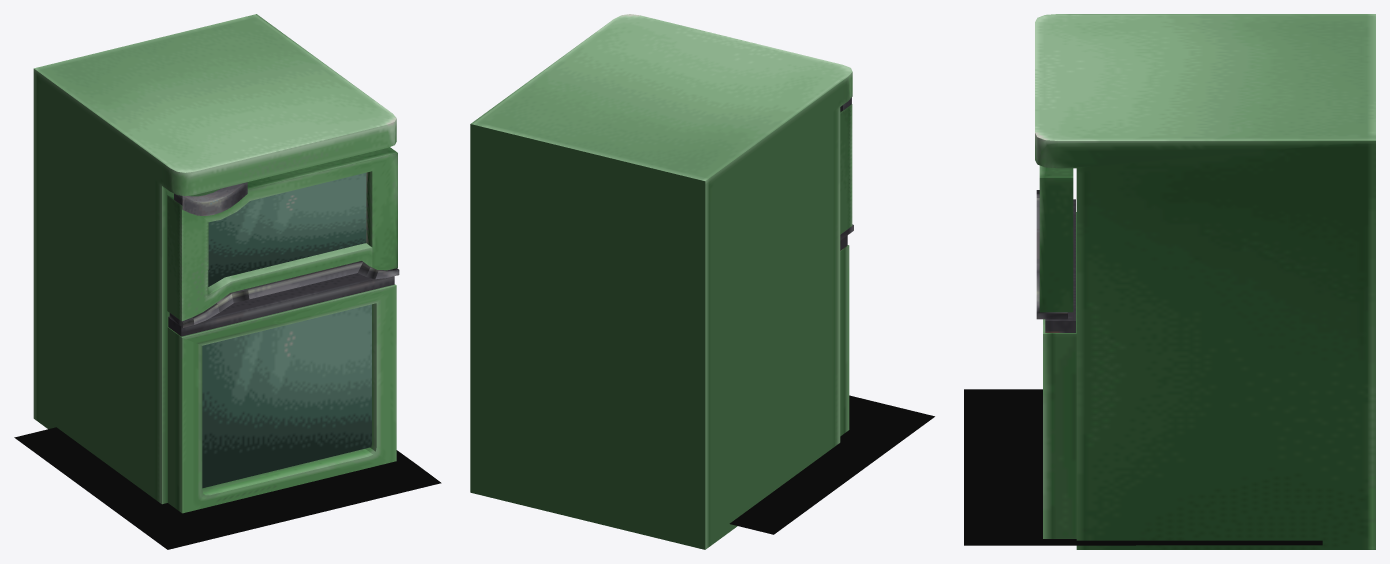
The model's file is K1_oldrefrigerator.FBX.
The picture shows the model from 3 angles, left to right: view 1: azimuth 30°, elevation 25°; view 2: azimuth 150°, elevation 25°; view 3: azimuth 270°, elevation 25°; orthographic projection. The views are drawn at different scales.
Visible parts, largest first — view 1: oldrefrigerator_000, oldornament_03, oldornament_02, oldornament_yy; view 2: oldrefrigerator_000, oldornament_yy, oldornament_03, oldornament_02; view 3: oldrefrigerator_000, oldornament_yy, oldornament_03, oldornament_02.
Part boxes in pixels (x1,y1,x2,y2): oldrefrigerator_000: (33,14,396,504); oldornament_03: (167,273,396,513); oldornament_02: (167,147,399,327); oldornament_yy: (14,427,441,549); oldrefrigerator_000: (470,14,852,549); oldornament_yy: (729,395,934,534); oldornament_03: (840,235,849,436); oldornament_02: (840,97,853,240); oldrefrigerator_000: (1035,14,1375,549); oldornament_yy: (964,389,1322,545); oldornament_03: (1043,199,1076,538); oldornament_02: (1036,165,1073,319).
Size of the model in its own units: 44.01 by 53.66 by 48.98.
